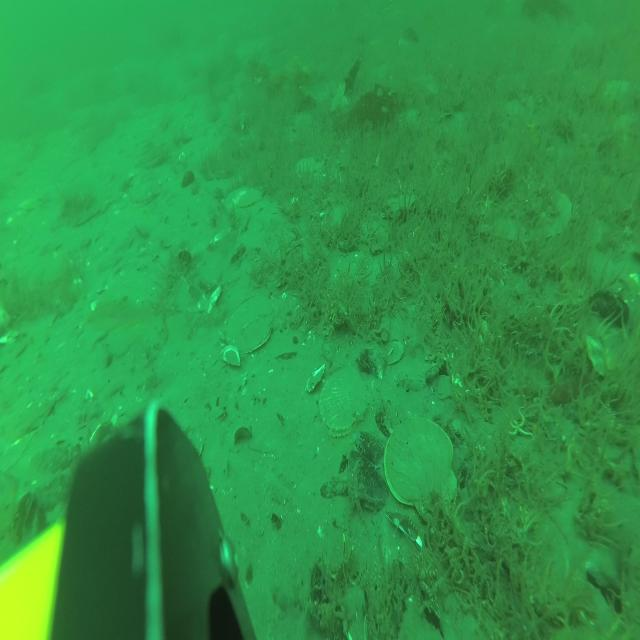scallop: (384, 419, 458, 524), (320, 368, 370, 437), (228, 296, 278, 352), (540, 192, 574, 238), (130, 168, 161, 206), (296, 154, 324, 182), (226, 184, 243, 207), (242, 188, 261, 208)
